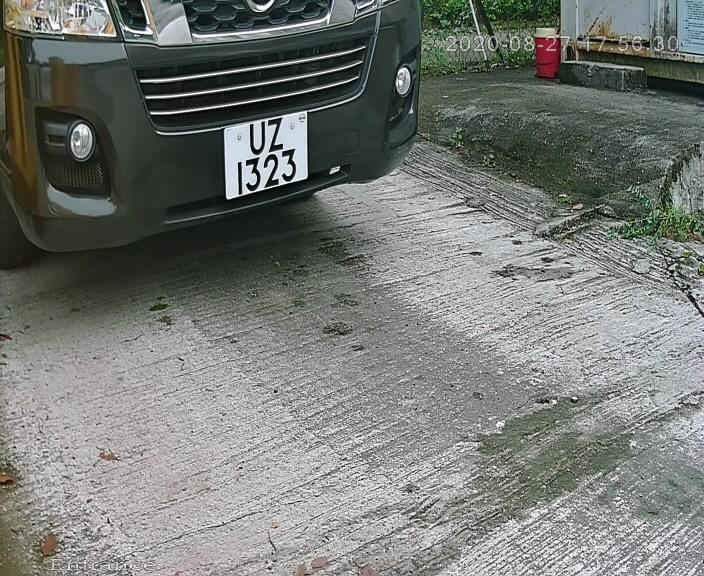Car: (16, 6, 469, 312)
License Plate: (209, 96, 322, 220)
